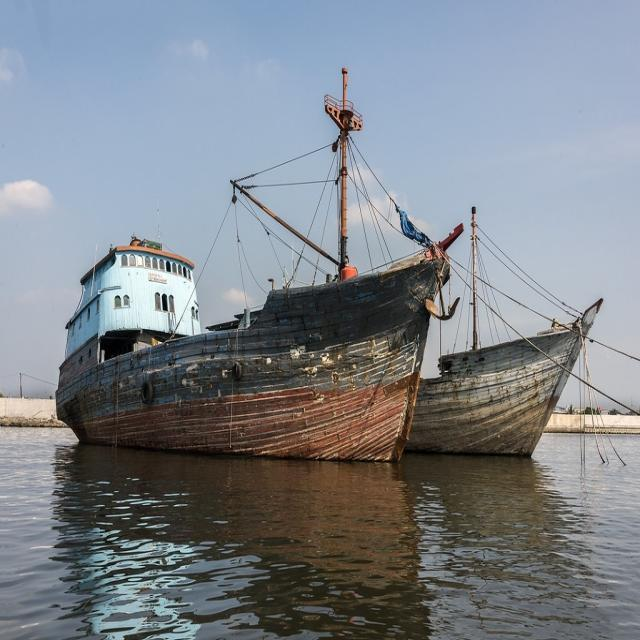boat: (36, 233, 453, 462)
